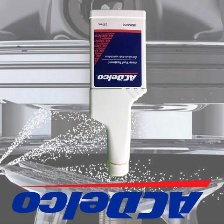cleaning_solution: (86, 5, 150, 178)
